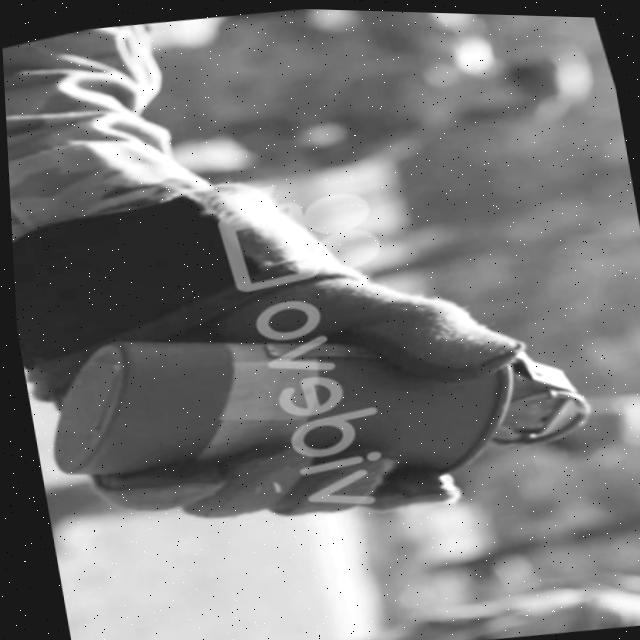grenade: (9, 224, 625, 582)
